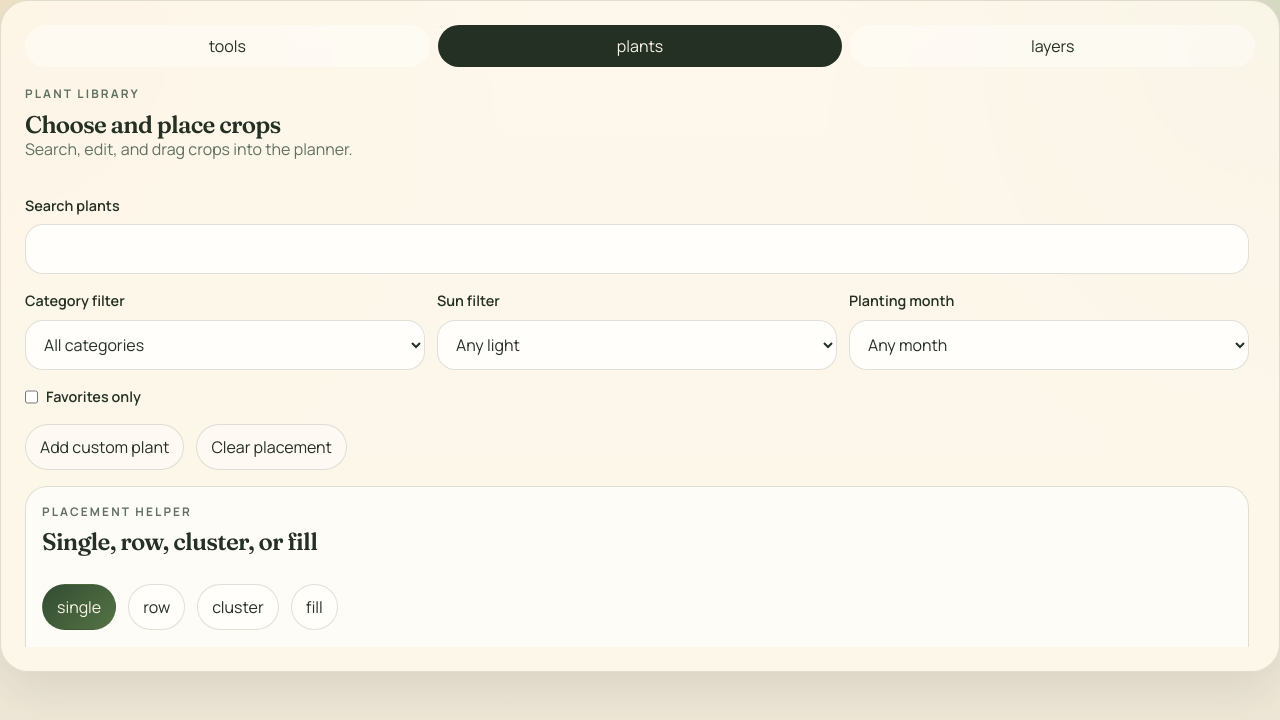
Test case: PlannerSidebar › switches the placement helper into fill mode
Click the button "fill" at (314, 607), box [291, 584, 338, 630]
(page scrolled)
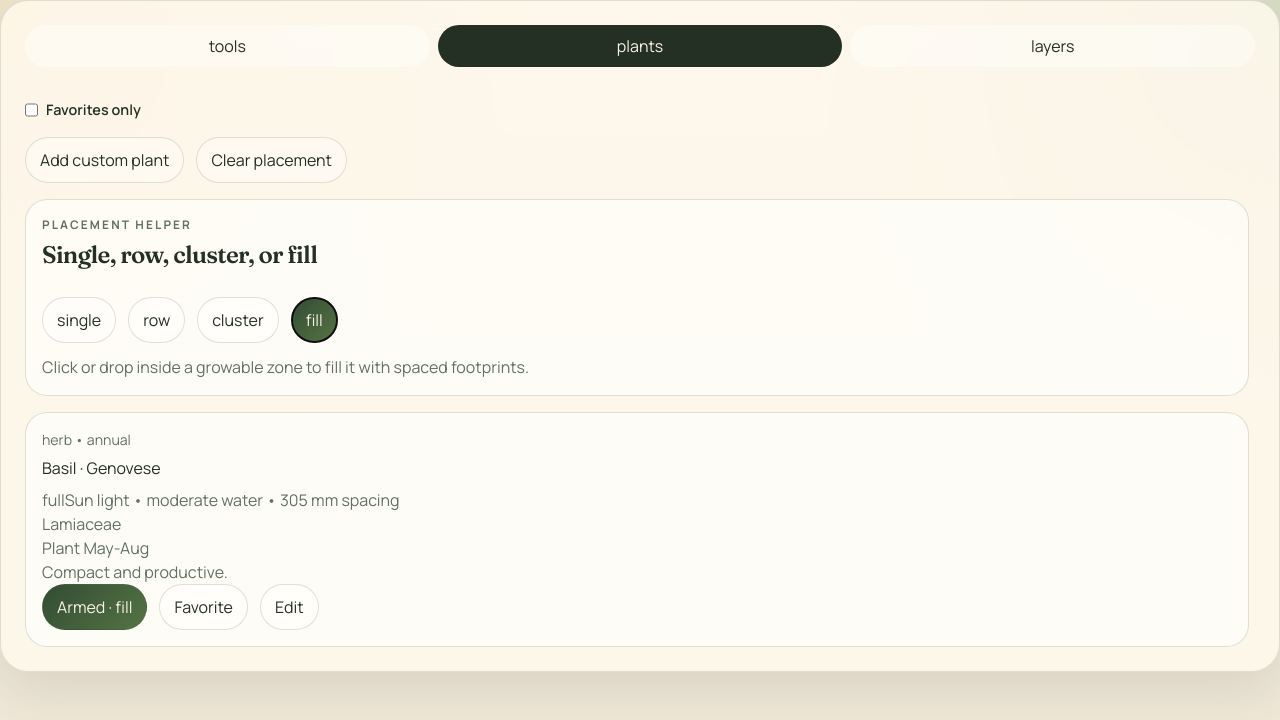
Check: the button "fill" is shown, box [291, 297, 338, 343]
Check: the text "Click or drop inside a growable zone to fill it with spaced footprints" is shown, box [42, 356, 529, 378]
Check: the button "Armed · fill" is shown, box [42, 584, 147, 630]
